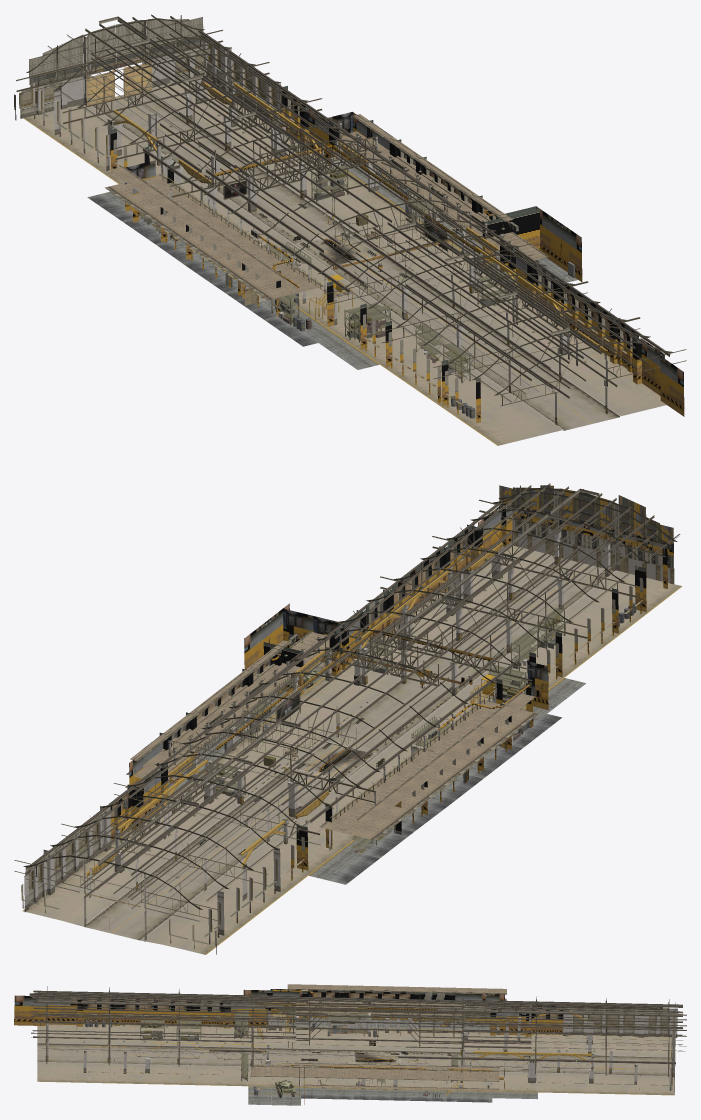
Rendered from hangar_structure.glb.
3 renders of one model, top to bottom at view 1: azimuth 30°, elevation 25°; view 2: azimuth 150°, elevation 25°; view 3: azimuth 270°, elevation 25°, orthographic. The views are drawn at different scales.
Visible parts, largest first — view 1: object_114027680_group_0_17, object_114025664_group_0_40, object_114027344_group_0_42, object_279933568_group_0_12, object_114024992_group_0_25, object_114026840_group_0_27, object_114027512_group_0_10, object_279934072_group_0_36, object_77879168_group_0_34, object_114025328_group_0_5, object_114024488_group_0_4, object_114027008_group_0_9 (+6 smaller); view 2: object_114027680_group_0_17, object_114025664_group_0_40, object_114027344_group_0_42, object_279933568_group_0_12, object_114024992_group_0_25, object_114027512_group_0_10, object_114026840_group_0_27, object_114024488_group_0_4, object_114026672_group_0_8, object_114026168_group_0_7, object_114025328_group_0_5, object_114025832_group_0_6 (+6 smaller); view 3: object_114027680_group_0_17, object_114025664_group_0_40, object_114024992_group_0_25, object_114027344_group_0_42, object_114026840_group_0_27, object_279933568_group_0_12, object_114027512_group_0_10, object_114026168_group_0_7, object_114024488_group_0_4, object_114028352_group_0_11, object_114027008_group_0_9, object_279933904_group_0_13 (+5 smaller).
Part boxes in pixels (x1,y1,x2,y2): object_114027680_group_0_17: [23, 16, 666, 445]; object_114025664_group_0_40: [191, 212, 473, 363]; object_114027344_group_0_42: [205, 120, 463, 298]; object_279933568_group_0_12: [105, 80, 263, 247]; object_114024992_group_0_25: [396, 167, 575, 324]; object_114026840_group_0_27: [199, 71, 439, 214]; object_114027512_group_0_10: [381, 280, 585, 425]; object_279934072_group_0_36: [19, 24, 153, 171]; object_77879168_group_0_34: [116, 17, 281, 120]; object_114025328_group_0_5: [446, 175, 582, 329]; object_114024488_group_0_4: [484, 267, 686, 414]; object_114027008_group_0_9: [14, 23, 182, 155]; object_114027680_group_0_17: [22, 488, 682, 954]; object_114025664_group_0_40: [403, 580, 561, 783]; object_114027344_group_0_42: [198, 634, 464, 817]; object_279933568_group_0_12: [198, 729, 461, 857]; object_114024992_group_0_25: [206, 571, 473, 750]; object_114027512_group_0_10: [477, 493, 680, 653]; object_114026840_group_0_27: [102, 698, 263, 859]; object_114024488_group_0_4: [380, 483, 587, 640]; object_114026672_group_0_8: [398, 485, 587, 612]; object_114026168_group_0_7: [574, 493, 674, 664]; object_114025328_group_0_5: [214, 579, 403, 706]; object_114025832_group_0_6: [14, 796, 189, 925]; object_114027680_group_0_17: [37, 992, 683, 1105]; object_114025664_group_0_40: [176, 984, 392, 1049]; object_114024992_group_0_25: [178, 1010, 398, 1103]; object_114027344_group_0_42: [289, 994, 466, 1082]; object_114026840_group_0_27: [394, 1016, 576, 1097]; object_279933568_group_0_12: [388, 986, 573, 1055]; object_114027512_group_0_10: [29, 986, 187, 1047]; object_114026168_group_0_7: [14, 995, 174, 1026]; object_114024488_group_0_4: [31, 1007, 187, 1073]; object_114028352_group_0_11: [174, 989, 381, 1030]; object_114027008_group_0_9: [564, 998, 686, 1056]; object_279933904_group_0_13: [381, 990, 563, 1057].
Size of the model in its own units: 45.16 by 14.96 by 137.
15 materials, 15 textured.
